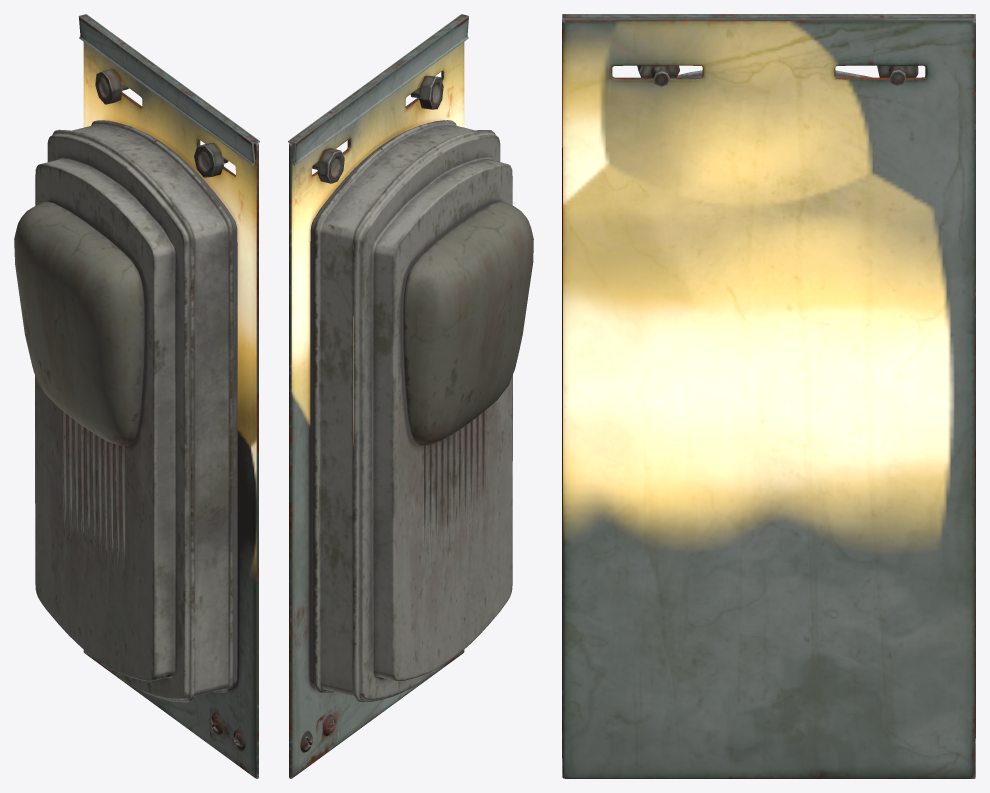
The model's file is SM_Electrical_Cabinet_02a.fbx.
3 renders of one model, left to right at view 1: azimuth 30°, elevation 25°; view 2: azimuth 150°, elevation 25°; view 3: azimuth 270°, elevation 25°, orthographic. The views are drawn at different scales.
Parts seen in each view (by area): view 1: SM_Electrical_Cabinet_02a_LOD0; view 2: SM_Electrical_Cabinet_02a_LOD0; view 3: SM_Electrical_Cabinet_02a_LOD0.
Part boxes in pixels (x1=…): SM_Electrical_Cabinet_02a_LOD0: x1=14, y1=14, x2=259, y2=778; SM_Electrical_Cabinet_02a_LOD0: x1=288, y1=14, x2=533, y2=778; SM_Electrical_Cabinet_02a_LOD0: x1=562, y1=14, x2=975, y2=778.
Bounding box in the file's own units: 12.2 × 28 × 56.84.
